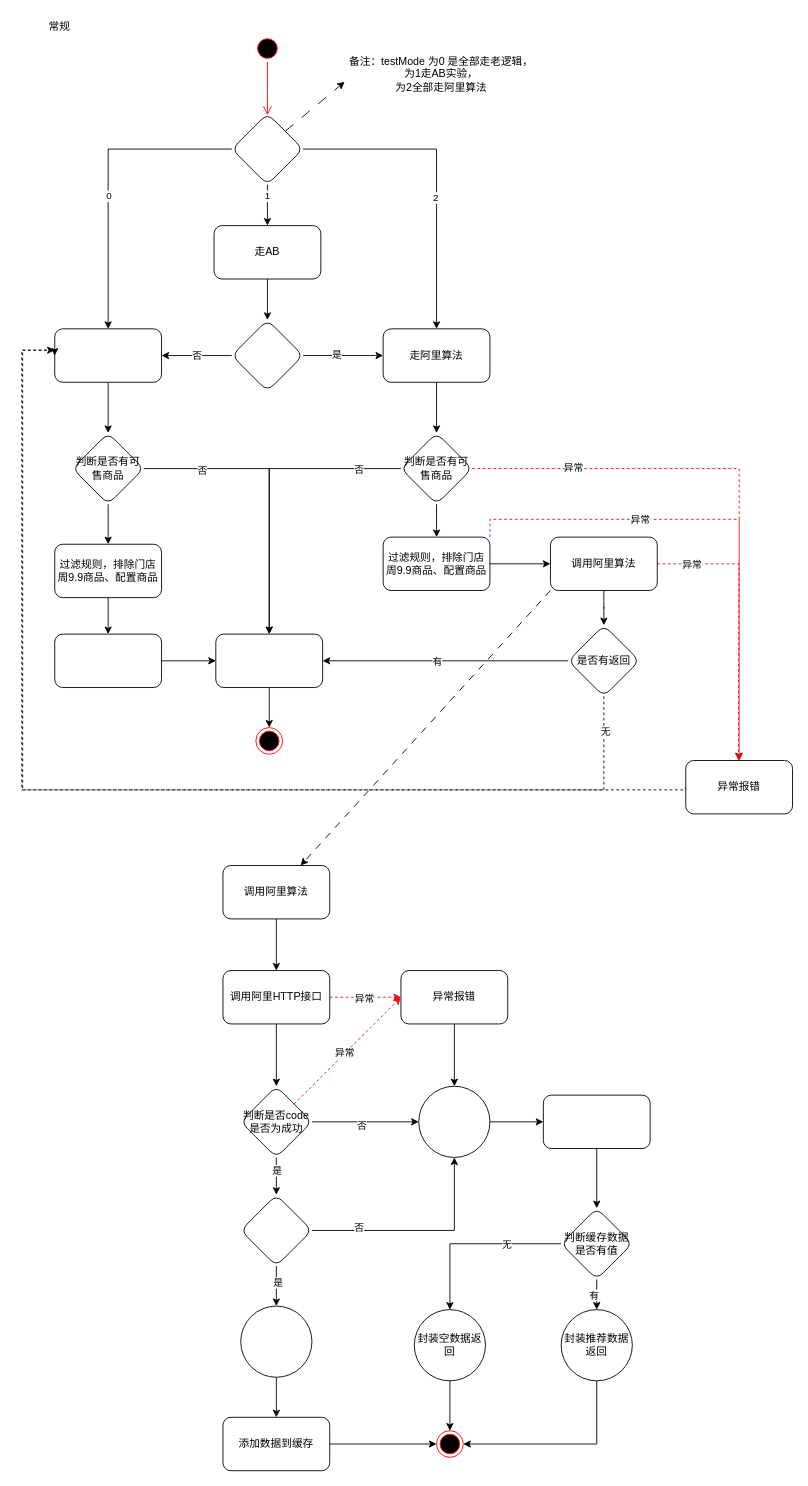
The diagram is 808 pixels wide and 1486 high, and some of its shapes have lost their labels. Each missing label, with the box of its shape:
多塔模型-v6推荐: (54, 633, 162, 688)
大数据埋点上报: (215, 633, 323, 688)
是否是实验组2799: (231, 319, 303, 391)
是否走阿里算法testModel: (231, 113, 303, 185)
是否返回推荐商品: (240, 1194, 312, 1266)
查询缓存数据: (542, 1094, 650, 1149)
走原逻辑: (54, 328, 162, 382)
返回推荐数据: (240, 1305, 312, 1377)
返回空对象: (418, 1085, 490, 1157)
